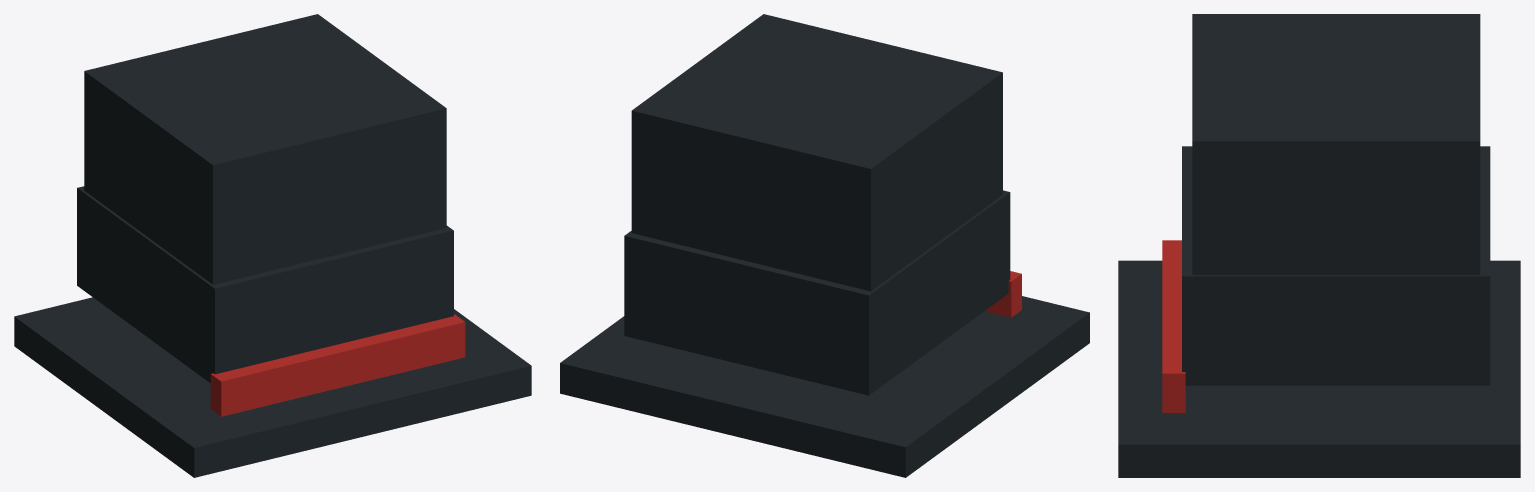
Rendered from black_top_hat.glb.
3 renders of one model, left to right at view 1: azimuth 30°, elevation 25°; view 2: azimuth 150°, elevation 25°; view 3: azimuth 270°, elevation 25°, orthographic. The views are drawn at different scales.
Visible parts, largest first — view 1: black_top_hat; view 2: black_top_hat; view 3: black_top_hat.
Boxes of the visible parts, x1,y1,x2,y2 form: black_top_hat: (14,14,531,477); black_top_hat: (560,14,1089,477); black_top_hat: (1118,14,1520,477).
Size of the model in its own units: 0.65 by 0.5075 by 0.6.
